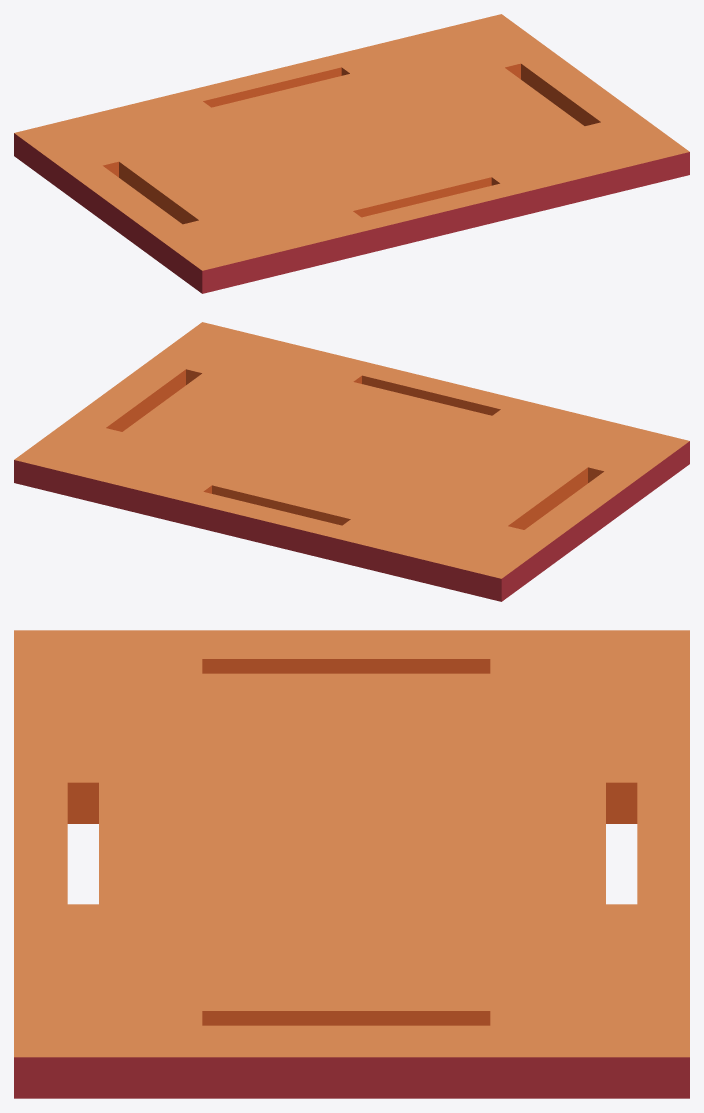
File: Res01_Cutting_Plate_03.fbx
The picture shows the model from 3 angles, top to bottom: view 1: azimuth 30°, elevation 25°; view 2: azimuth 150°, elevation 25°; view 3: azimuth 270°, elevation 25°; orthographic projection. The views are drawn at different scales.
Parts seen in each view (by area): view 1: Res01_Cutting_Plate_03; view 2: Res01_Cutting_Plate_03; view 3: Res01_Cutting_Plate_03.
Boxes of the visible parts, x1,y1,x2,y2 form: Res01_Cutting_Plate_03: [14, 14, 689, 293]; Res01_Cutting_Plate_03: [14, 322, 689, 601]; Res01_Cutting_Plate_03: [14, 630, 689, 1098].
Bounding box in the file's own units: 101 × 4.56 × 67.4.
